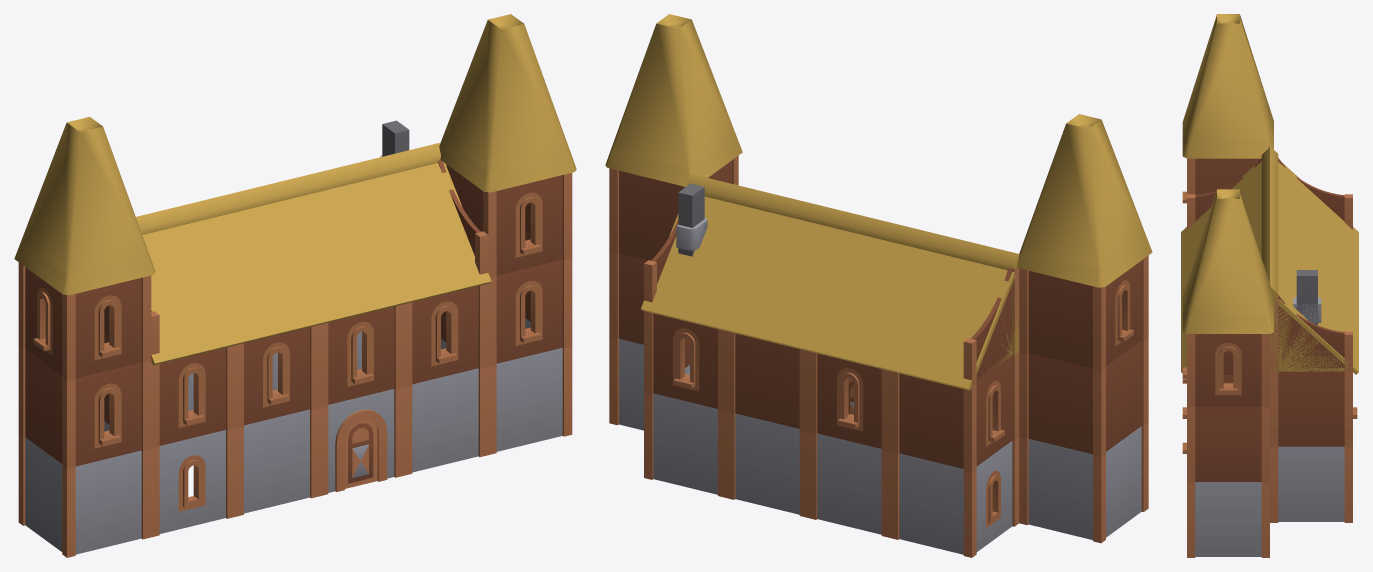
File: cahute-maitre.glb
The picture shows the model from 3 angles, left to right: view 1: azimuth 30°, elevation 25°; view 2: azimuth 150°, elevation 25°; view 3: azimuth 270°, elevation 25°; orthographic projection. The views are drawn at different scales.
Parts seen in each view (by area): view 1: wall-window-round, roof-high; view 2: wall-window-round, roof-high; view 3: wall-window-round, roof-high.
Boxes of the visible parts, x1,y1,x2,y2 form: wall-window-round: (18, 120, 572, 557); roof-high: (14, 14, 576, 365); wall-window-round: (609, 155, 1148, 557); roof-high: (605, 14, 1152, 390); wall-window-round: (1182, 158, 1357, 557); roof-high: (1181, 14, 1358, 374).
Size of the model in its own units: 18.3 by 13.8 by 6.42.
Materials: 2 (1 with a texture image).
